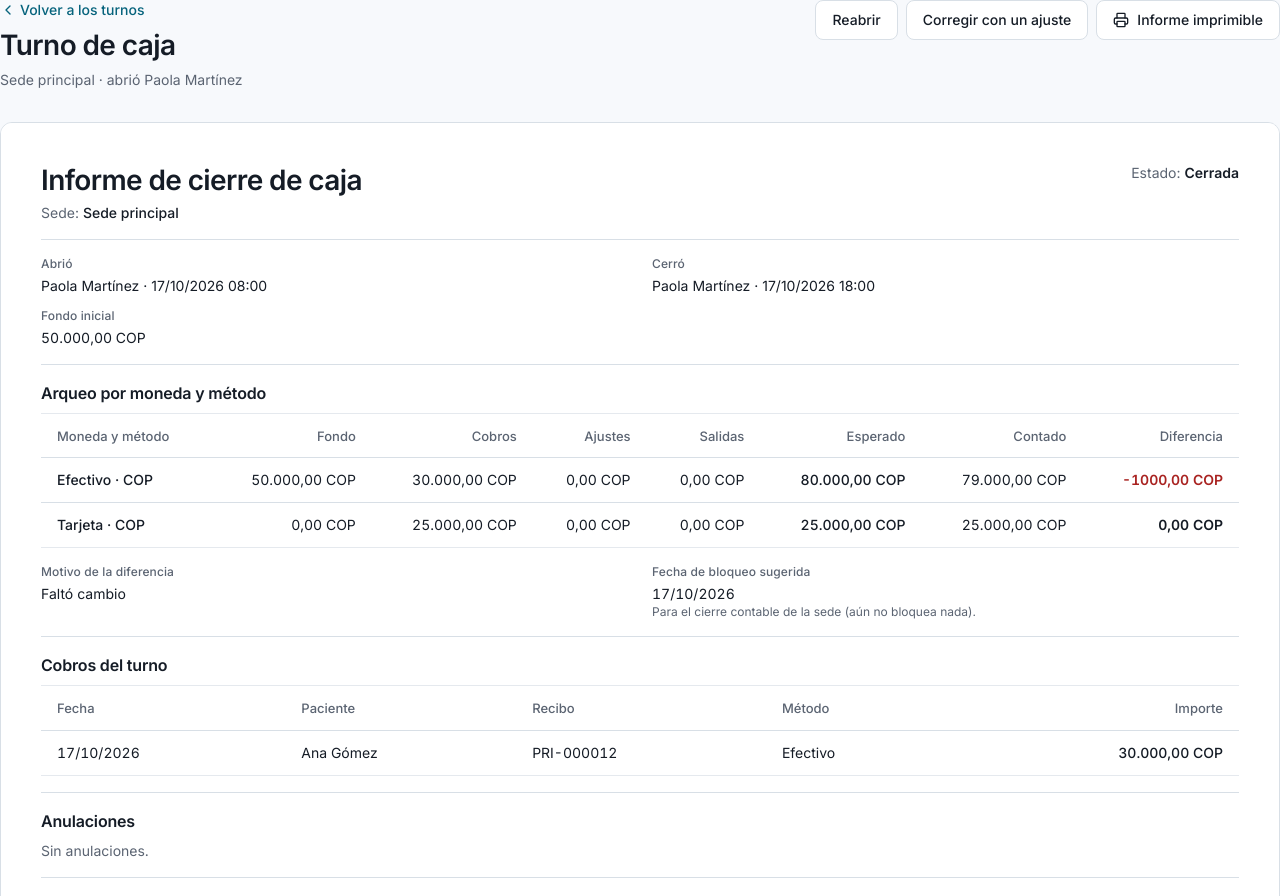
Test: CashSessionDetailView: acciones según `can` (DX-027, DX-252) › ADMIN (can.reopen y can.adjust): cada botón abre su modal
This screenshot has width=1280, height=896.
Check: the heading "Turno de caja" is shown, box [0,28,175,62]
Click the button "Reabrir" at (857, 20), box [815,0,898,40]
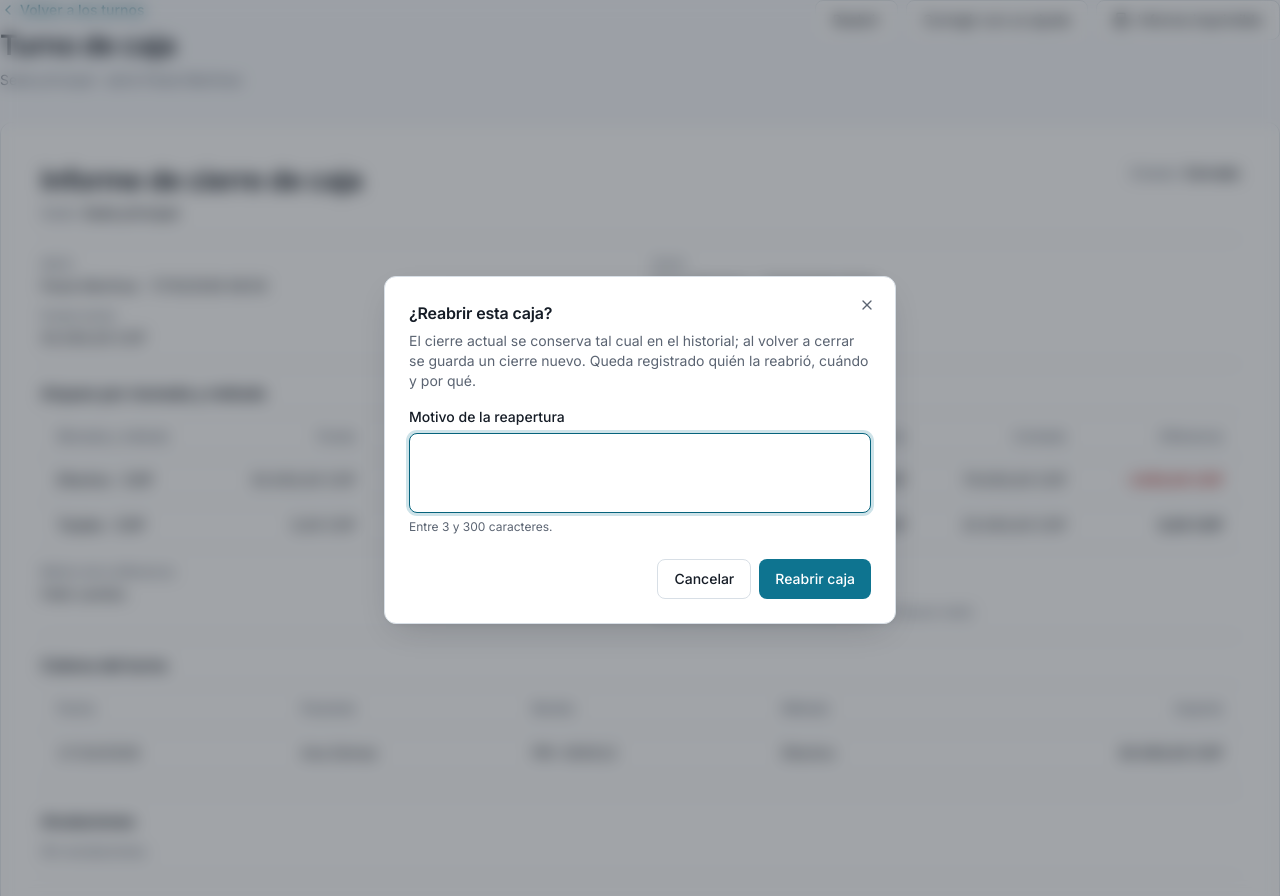
Check: the text box labelled "Motivo de la reapertura" is shown, box [409,433,871,513]
Click the button "Cancelar" at (704, 579), box [658,559,751,599]
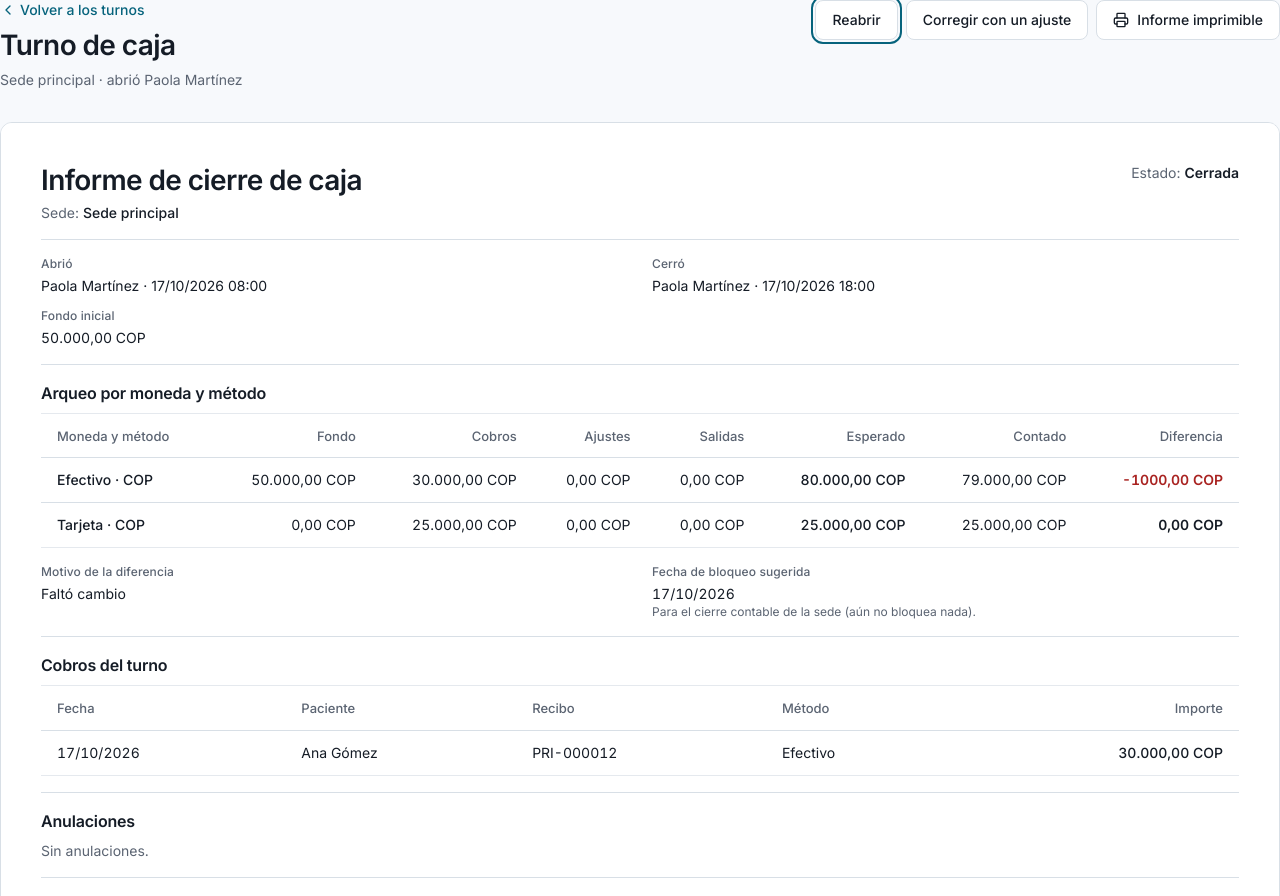
Click the button "Corregir con un ajuste" at (997, 20), box [906,0,1088,40]
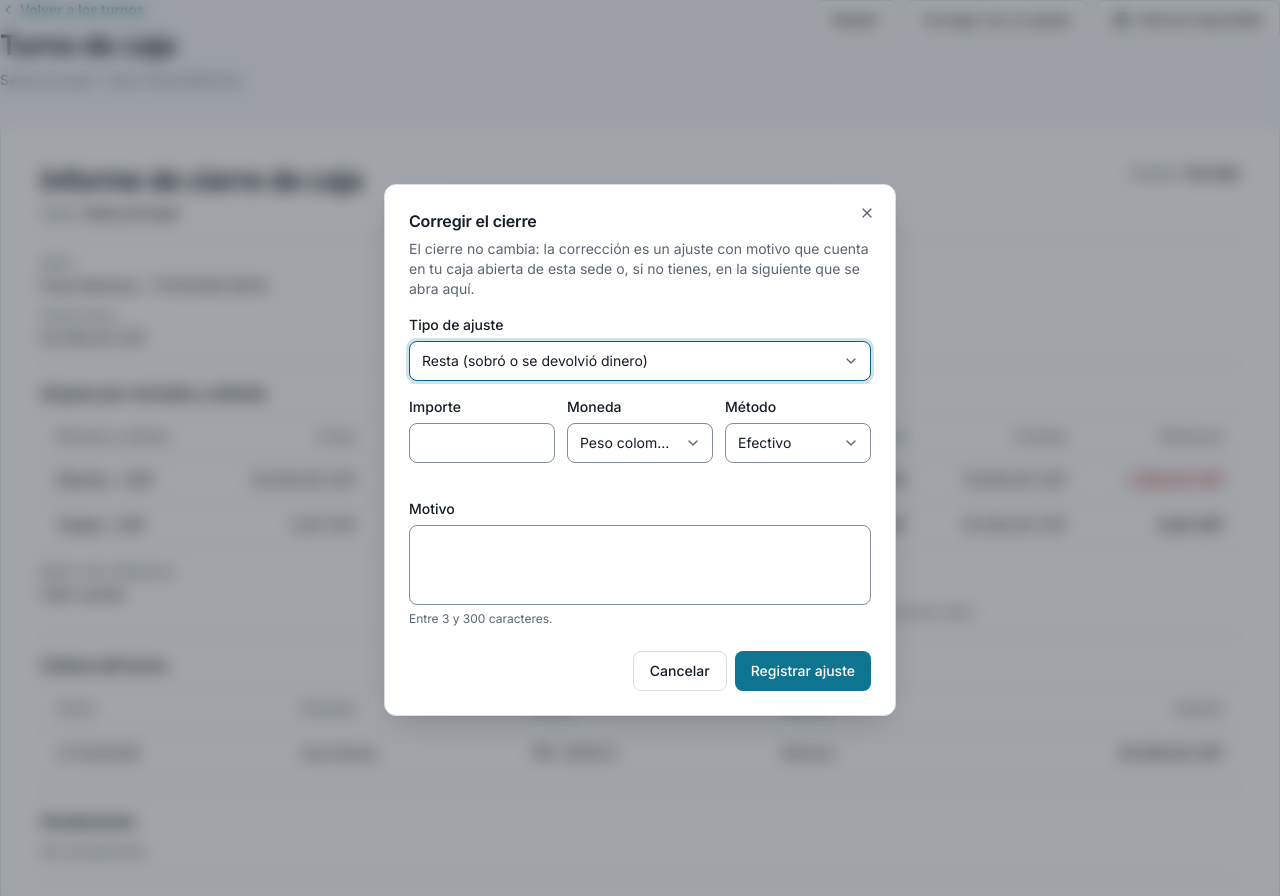
Check: the text box labelled "Motivo" is shown, box [409,525,871,605]
